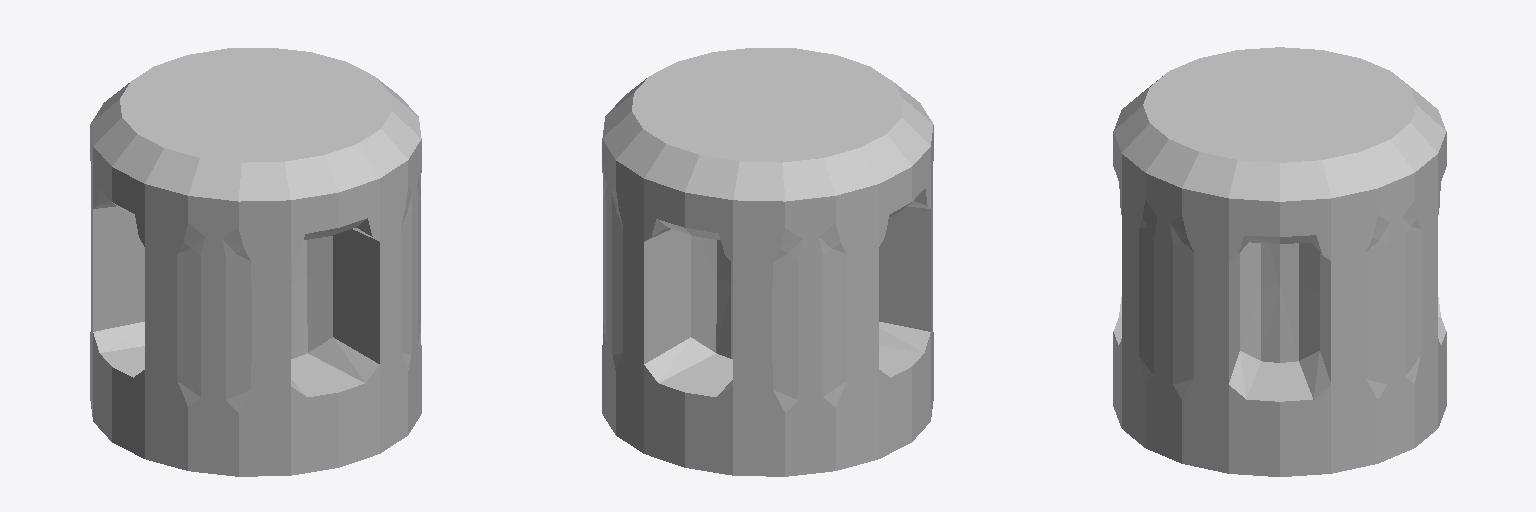
File: FourDirTurret.obj
3 views of the same model, side by side, from view 1: azimuth 30°, elevation 25°; view 2: azimuth 150°, elevation 25°; view 3: azimuth 270°, elevation 25° (orthographic).
Parts seen in each view (by area): view 1: pCylinder1; view 2: pCylinder1; view 3: pCylinder1.
Part boxes in pixels (left/top/right/bottom): pCylinder1: left=90, top=48, right=421, bottom=476; pCylinder1: left=602, top=48, right=933, bottom=476; pCylinder1: left=1113, top=47, right=1446, bottom=476.
Bounding box in the file's own units: 2 × 2 × 2.